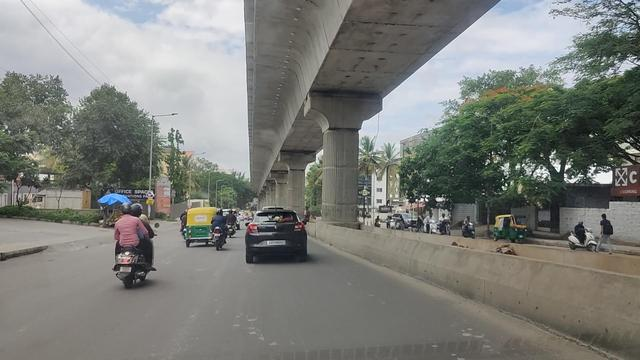LMV: (245, 207, 307, 266), (114, 202, 153, 290), (187, 207, 214, 246), (211, 208, 225, 249)
